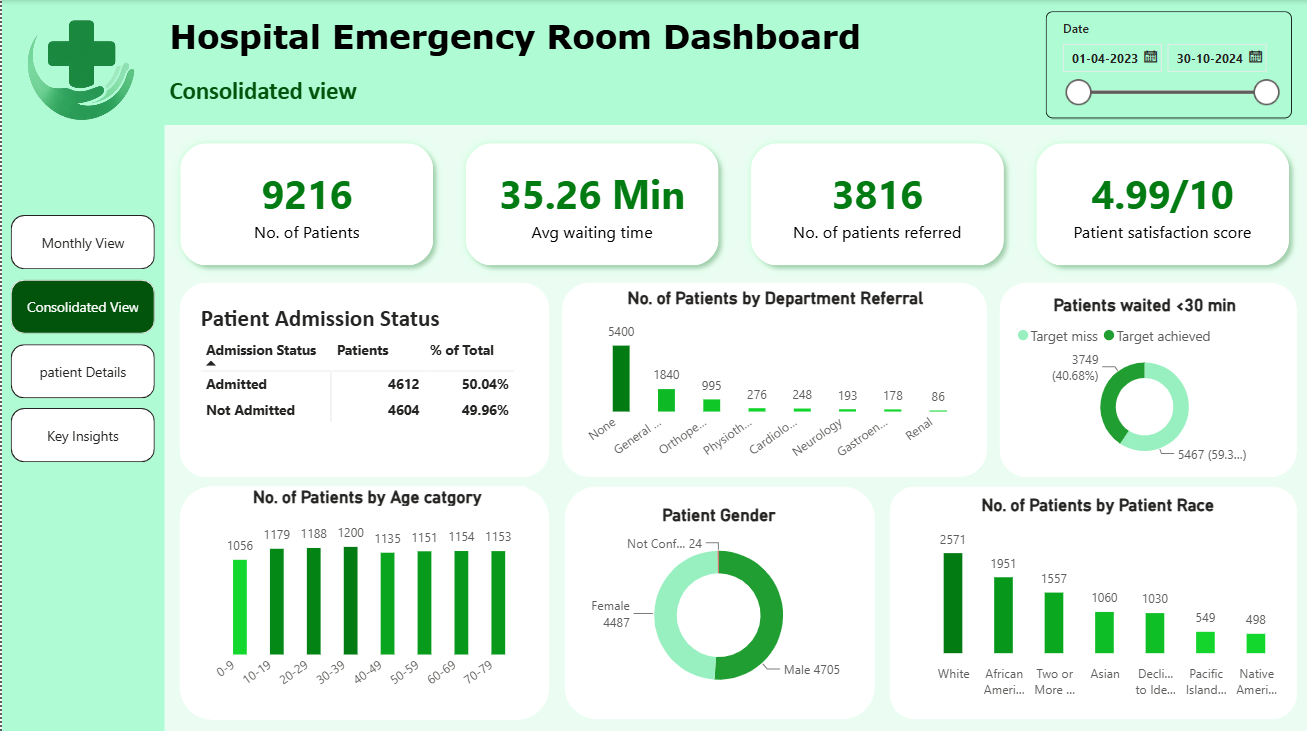

What the dashboard file says about the page in this screenshot:
{"tool":"powerbi","page":{"name":"Consolidated View","canvas":[1280,720],"ordinal":1},"visuals":[{"type":"shape","box":[0,0,159,720.2],"z":0},{"type":"shape","box":[0,0,1280.3,122.3],"z":1000},{"type":"textbox","box":[159,11,783.8,62.4],"z":2000},{"type":"cardVisual","fields":{"Data":["Hospital ER_Data.No. of Patients","Hospital ER_Data.Avg waiting time","Hospital ER_Data.referal count","Hospital ER_Data.patient satisfaction"]},"box":[157.7,123.1,1121.8,153.8],"z":3000},{"type":"textbox","box":[159,68.5,377.9,48.9],"z":4000},{"type":"group","id":"g1","title":"Group 1","box":[173.6,475.7,362,228.7],"z":5000},{"type":"group","id":"g2","title":"Group 2","box":[975.8,276.4,291,190.8],"z":6000},{"type":"group","id":"g3","title":"Group 3","box":[547.5,276.3,415.8,190.3],"z":7000},{"type":"group","id":"g4","title":"Group 4","box":[173.6,276.4,362,190.8],"z":8000},{"type":"shape","box":[173.6,276.4,362,190.8],"z":9000,"group":"g4"},{"type":"shape","box":[550.2,475.7,303.7,228.1],"z":9000,"group":"g6"},{"type":"group","id":"g5","title":"Group 5","box":[868.1,475.8,398.9,228.1],"z":9000},{"type":"pivotTable","title":"Patient Admission Status","fields":{"Rows":["Hospital ER_Data.Admission check"],"Values":["Hospital ER_Data.No. of Patients","Divide(Hospital ER_Data.No. of Patients, ScopedEval(Hospital ER_Data.No. of Patients, []))"]},"box":[189.1,297.3,328.3,147.6],"z":10000,"group":"g4"},{"type":"group","id":"g6","title":"Group 6","box":[550.2,475.7,303.3,228.7],"z":10000},{"type":"donutChart","title":" Patient Gender","fields":{"Y":["Hospital ER_Data.No. of Patients"],"Category":["Hospital ER_Data.Patient Gender"]},"box":[560.6,493.6,282.5,196.9],"z":10000,"group":"g6"},{"type":"image","box":[0,0,157.7,133.3],"z":11000},{"type":"slicer","fields":{"Values":["Date Table.Date"]},"box":[1020.5,11.5,241,105.1],"z":12000},{"type":"shape","box":[173.6,475.7,362,228.7],"z":12000,"group":"g1"},{"type":"shape","box":[868.1,475.8,398.9,228.1],"z":12000,"group":"g5"},{"type":"pageNavigator","box":[9,210.3,141,244.9],"z":13000},{"type":"columnChart","fields":{"Category":["Hospital ER_Data.Age catgory"],"Y":["Hospital ER_Data.No. of Patients"]},"box":[201.4,475.7,311.1,215.8],"z":13000,"group":"g1"},{"type":"shape","box":[547.5,276.3,415.8,190.3],"z":14000,"group":"g3"},{"type":"columnChart","fields":{"Category":["Hospital ER_Data.Department Referral"],"Y":["Hospital ER_Data.No. of Patients"]},"box":[564.4,281.5,383.2,178.6],"z":15000,"group":"g3"},{"type":"shape","box":[975.8,276.4,291,190.8],"z":16000,"group":"g2"},{"type":"donutChart","title":"Patients waited <30 min","fields":{"Y":["Hospital ER_Data.No. of Patients"],"Category":["Hospital ER_Data.waittime check"]},"box":[988.3,288.6,259.8,170],"z":17000,"group":"g2"},{"type":"columnChart","fields":{"Y":["Hospital ER_Data.No. of Patients"],"Category":["Hospital ER_Data.Patient Race"]},"box":[881.1,484.9,380.6,205.9],"z":18000,"group":"g5"}]}

Visuals, with their boxes in screenshot pixels (x1, y1, x2, y2), scaled from the page's 1280x720 canvas onto the 1307x731 screenshot:
shape: left=0, top=0, right=162, bottom=730
shape: left=0, top=0, right=1306, bottom=124
textbox: left=162, top=11, right=963, bottom=75
cardVisual - Hospital ER_Data.No. of Patients x Hospital ER_Data.Avg waiting time: left=161, top=125, right=1306, bottom=281
textbox: left=162, top=70, right=548, bottom=119
"Group 1" group: left=177, top=483, right=547, bottom=715
"Group 2" group: left=996, top=281, right=1294, bottom=474
"Group 3" group: left=559, top=281, right=984, bottom=474
"Group 4" group: left=177, top=281, right=547, bottom=474
shape: left=177, top=281, right=547, bottom=474
shape: left=562, top=483, right=872, bottom=715
"Group 5" group: left=886, top=483, right=1294, bottom=715
"Patient Admission Status" pivotTable: left=193, top=302, right=528, bottom=452
"Group 6" group: left=562, top=483, right=872, bottom=715
" Patient Gender" donutChart: left=572, top=501, right=861, bottom=701
image: left=0, top=0, right=161, bottom=135
slicer - Date Table.Date: left=1042, top=12, right=1288, bottom=118
shape: left=177, top=483, right=547, bottom=715
shape: left=886, top=483, right=1294, bottom=715
pageNavigator: left=9, top=214, right=153, bottom=462
columnChart - Hospital ER_Data.Age catgory x Hospital ER_Data.No. of Patients: left=206, top=483, right=523, bottom=702
shape: left=559, top=281, right=984, bottom=474
columnChart - Hospital ER_Data.Department Referral x Hospital ER_Data.No. of Patients: left=576, top=286, right=968, bottom=467
shape: left=996, top=281, right=1294, bottom=474
"Patients waited <30 min" donutChart: left=1009, top=293, right=1274, bottom=466
columnChart - Hospital ER_Data.No. of Patients x Hospital ER_Data.Patient Race: left=900, top=492, right=1288, bottom=701
